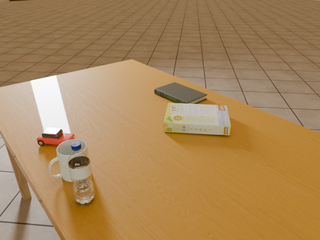book: (154, 82, 207, 104)
bottle: (67, 141, 95, 205)
box: (164, 103, 231, 135)
cup: (48, 139, 88, 182)
toy_car: (37, 128, 75, 146)
